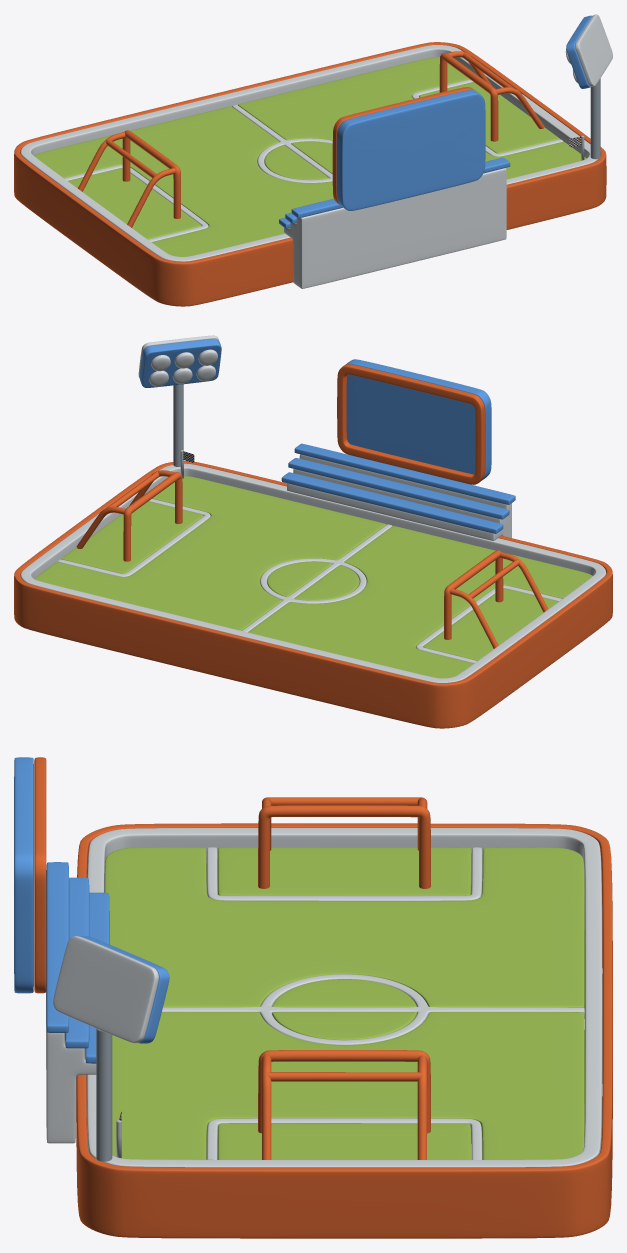
File: Football_Field.fbx
The picture shows the model from 3 angles, top to bottom: view 1: azimuth 30°, elevation 25°; view 2: azimuth 150°, elevation 25°; view 3: azimuth 270°, elevation 25°; orthographic projection. The views are drawn at different scales.
Visible parts, largest first — view 1: Ground, Plane_010, Plane_003, Plane_008, Plane_002, Line, Goal_1, Plane_013, Goal, Plane_004, Plane_007; view 2: Ground, Plane_010, Plane_008, Plane_002, Plane_004, Plane_003, Line, Goal_1, Goal, Plane_013, Plane_016, Plane_007; view 3: Ground, Plane_010, Plane_002, Line, Plane_013, Plane_008, Plane_004, Goal, Goal_1, Plane_003, Plane_007.
Part boxes in pixels (<box>): Ground: <box>34,57,586,256</box>; Plane_010: <box>14,42,606,306</box>; Plane_003: <box>284,168,506,288</box>; Plane_008: <box>332,87,485,210</box>; Plane_002: <box>20,45,597,261</box>; Line: <box>64,79,563,241</box>; Goal_1: <box>78,130,180,227</box>; Plane_013: <box>566,14,612,88</box>; Goal: <box>439,51,544,141</box>; Plane_004: <box>279,157,510,228</box>; Plane_007: <box>590,78,600,159</box>; Ground: <box>34,476,592,678</box>; Plane_010: <box>14,461,612,728</box>; Plane_008: <box>337,359,491,484</box>; Plane_002: <box>20,463,606,682</box>; Plane_004: <box>281,443,515,533</box>; Plane_003: <box>287,454,511,540</box>; Line: <box>57,499,561,663</box>; Goal_1: <box>444,550,548,648</box>; Goal: <box>76,470,182,561</box>; Plane_013: <box>138,335,221,387</box>; Plane_016: <box>149,349,217,386</box>; Plane_007: <box>173,384,183,466</box>; Ground: <box>104,847,584,1159</box>; Plane_010: <box>76,823,612,1238</box>; Plane_002: <box>86,828,602,1167</box>; Line: <box>162,847,584,1159</box>; Plane_013: <box>53,936,169,1043</box>; Plane_008: <box>14,757,46,993</box>; Plane_004: <box>46,862,109,1063</box>; Goal: <box>258,1050,430,1159</box>; Goal_1: <box>258,797,430,888</box>; Plane_003: <box>46,991,96,1143</box>; Plane_007: <box>96,1028,112,1161</box>.
Size of the model in its own units: 477 by 169 by 338.
2 materials, 2 textured.
